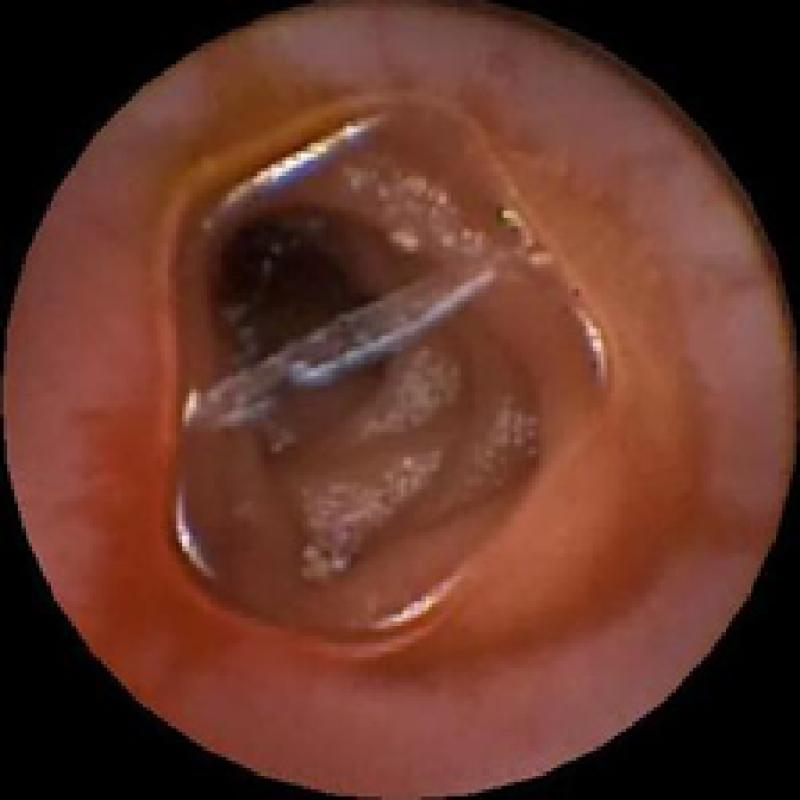bleeding: (74, 421, 579, 691), (222, 79, 332, 264)
